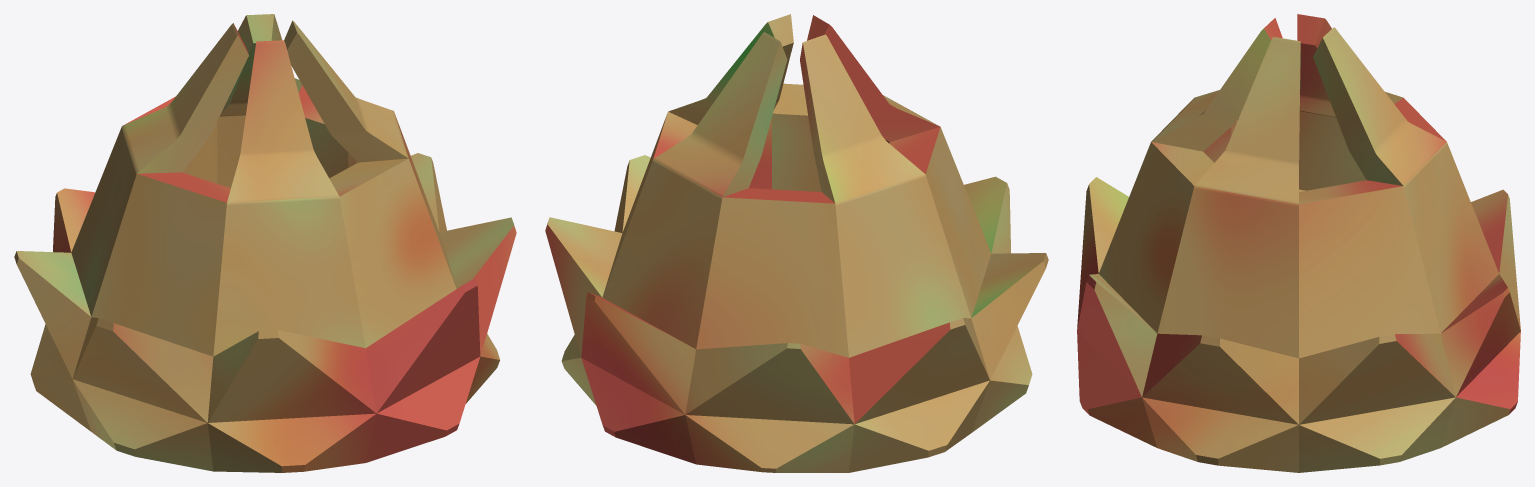
The model's file is WormHead_UV.fbx.
3 views of the same model, side by side, from view 1: azimuth 30°, elevation 25°; view 2: azimuth 150°, elevation 25°; view 3: azimuth 270°, elevation 25° (orthographic).
Visible parts, largest first — view 1: Worm_HeadA_UV; view 2: Worm_HeadA_UV; view 3: Worm_HeadA_UV.
Boxes of the visible parts, bbox=[...] form: Worm_HeadA_UV: bbox=[14, 14, 516, 472]; Worm_HeadA_UV: bbox=[545, 14, 1048, 472]; Worm_HeadA_UV: bbox=[1077, 14, 1520, 472].
Bounding box in the file's own units: 3.25 × 2.89 × 3.
Materials: 1 (1 with a texture image).
